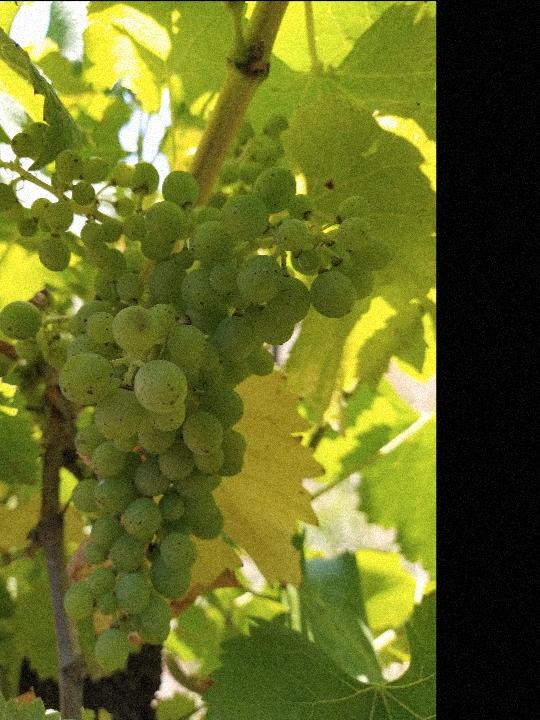grape: (0, 122, 398, 673)
